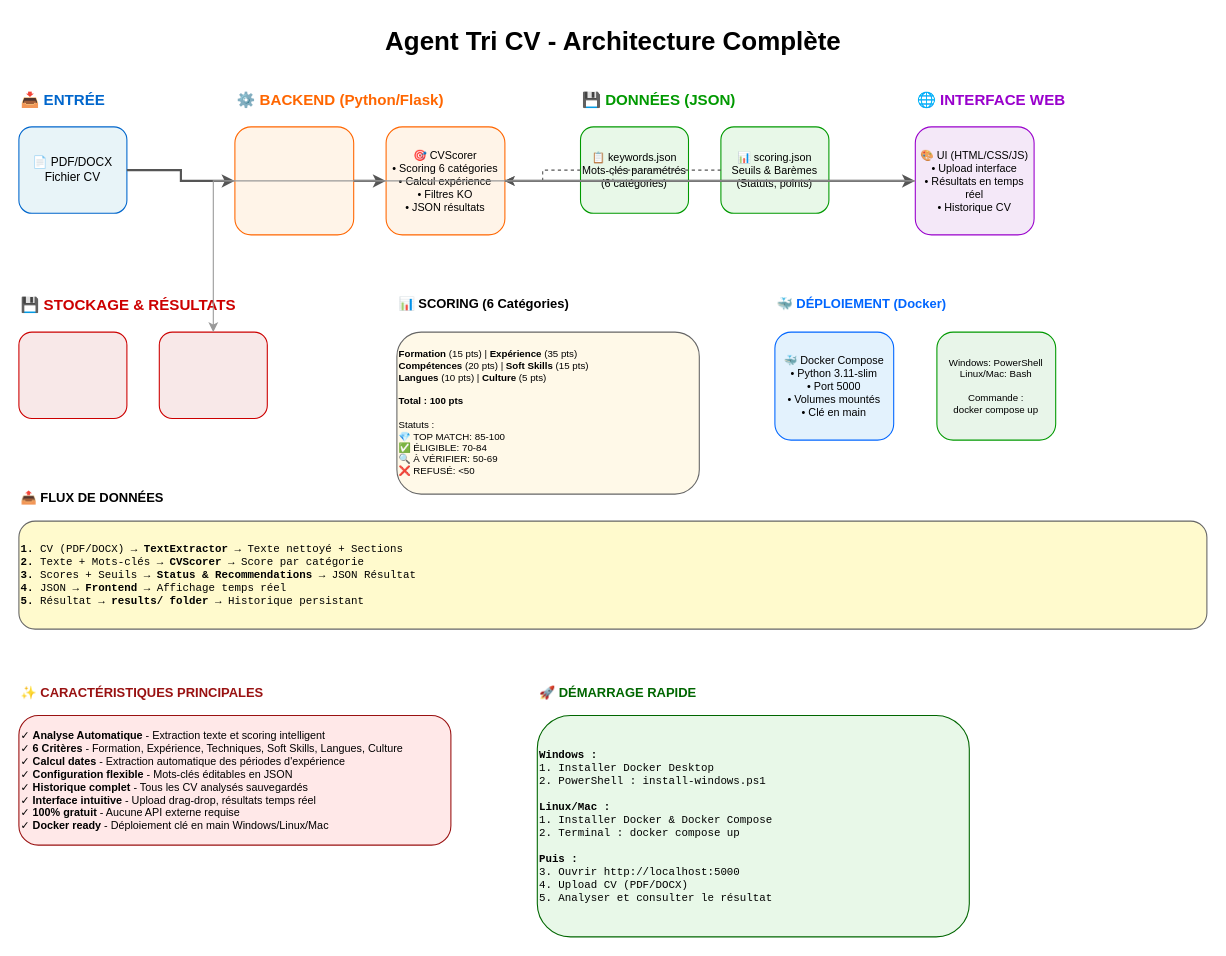
The diagram is 1226 pixels wide and 956 high, and some of its shapes have lost their labels. The shapes that lost their labels are listed below. From the top down, each one's box as (x1, y1, x2, y2) in pixels, then its label:
(234, 126, 354, 235): 🔍 TextExtractor • Extraction PDF/DOCX • Nettoyage texte • Extraction dates
(18, 331, 127, 418): 📁 uploads/ CVs téléchargés (Temporaire)
(158, 331, 267, 418): 📊 results/ Résultats JSON (Historique)
